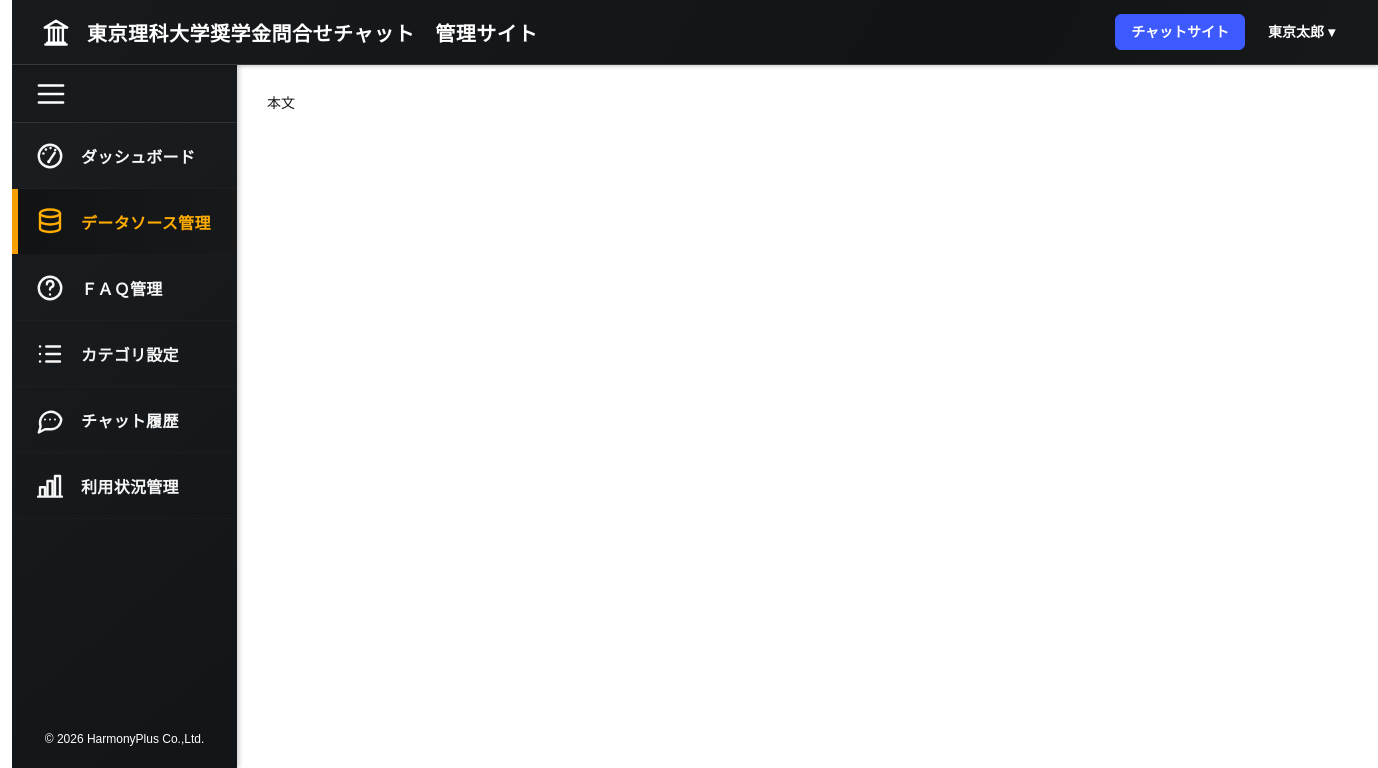
it: AdminLayout › 新ヘッダ・サイドバーを全画面の既定仕様として適用する
The width and height of the screenshot is (1378, 768).
Expected: the button named "サイドメニューを閉じる" is shown, [12,65,237,123]
Expected: the button "チャットサイト" is shown, [1115,14,1245,50]
What coordinates should you click on to do the following:
click the button "東京太郎 ▾"
I would click on:
 (1302, 32)
Its box is [1253,14,1350,50].
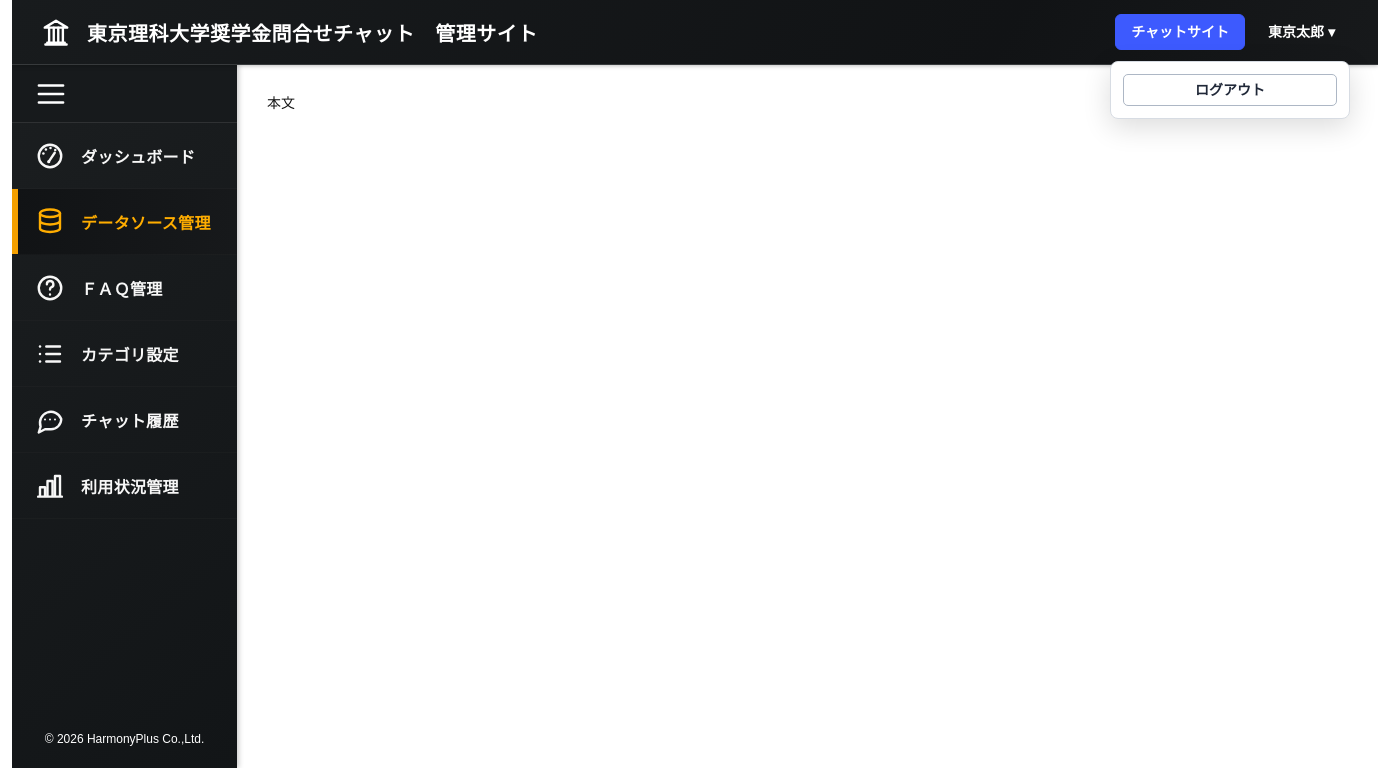
Now the menu item "ログアウト" is shown, box [1123,74,1337,106]
